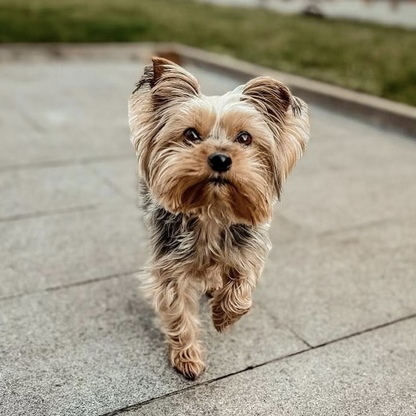yorkshire: (128, 56, 316, 382)
